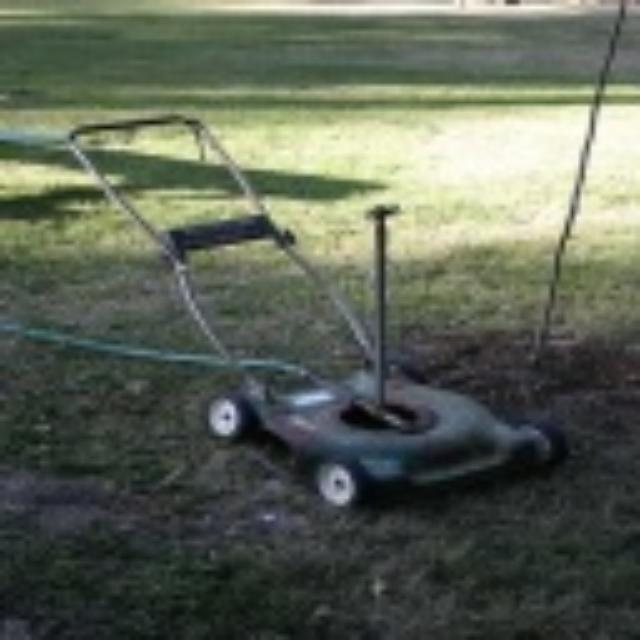Rotary-Mower: (60, 106, 570, 510)
